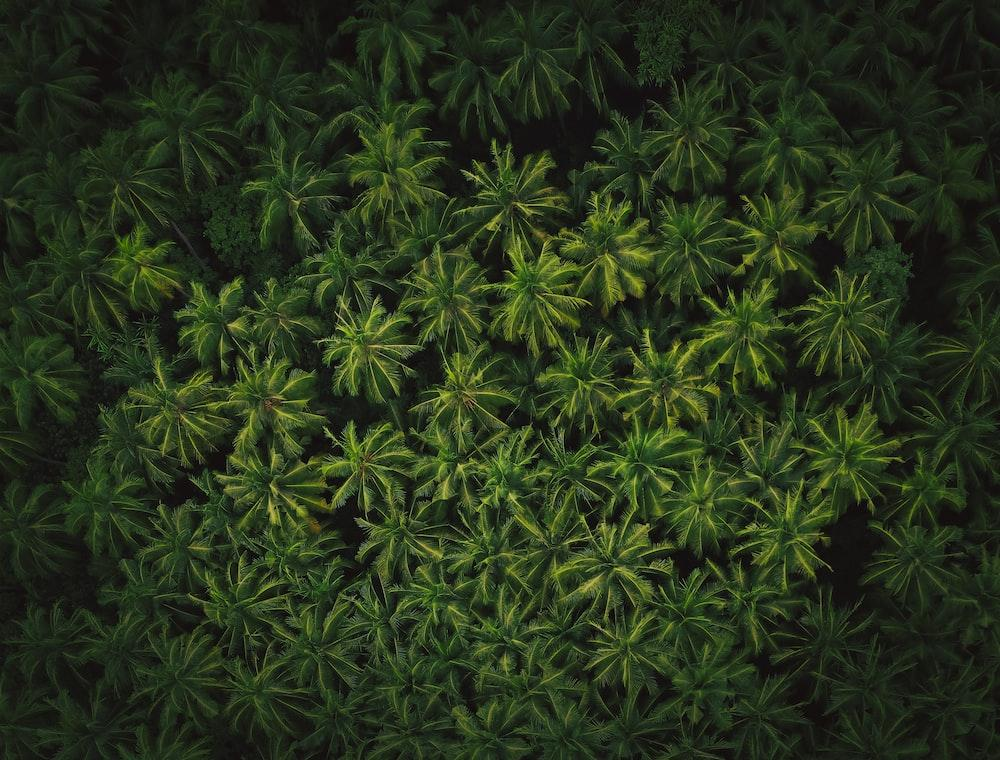coconut_tree: (312, 306, 421, 407), (310, 304, 419, 405), (700, 286, 809, 387), (600, 403, 709, 504), (791, 396, 900, 497), (452, 430, 561, 531), (641, 78, 750, 179), (247, 135, 356, 236), (133, 81, 242, 182), (121, 361, 230, 462), (141, 616, 250, 717), (268, 601, 377, 702), (753, 494, 862, 595), (556, 505, 665, 606), (404, 240, 513, 341), (348, 115, 457, 216), (79, 211, 188, 312), (308, 408, 417, 509), (226, 452, 335, 553), (494, 245, 603, 346), (571, 202, 680, 303), (727, 172, 836, 273), (108, 491, 217, 592), (810, 274, 919, 375), (336, 0, 445, 100), (0, 326, 107, 427)
